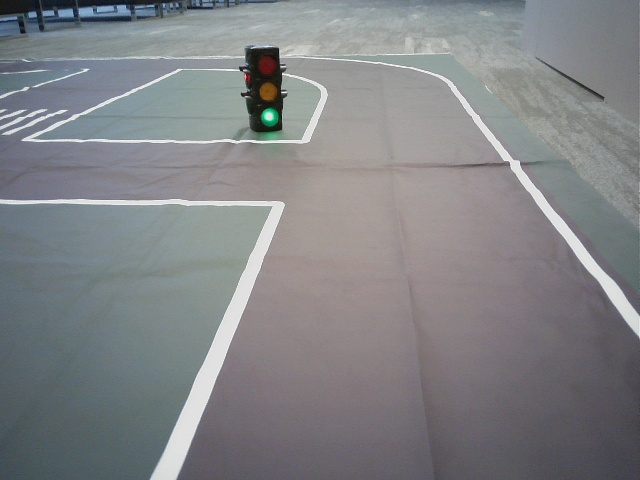green: (248, 51, 283, 126)
